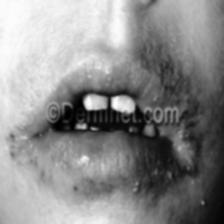Non-Cancerous Skin Condition: (110, 11, 206, 97), (143, 130, 213, 224), (0, 103, 42, 211)
